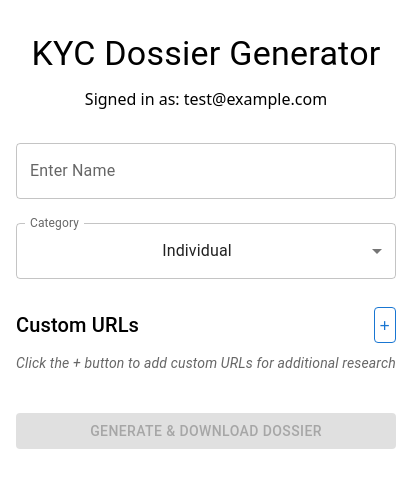
App Integration › can add and remove custom URLs
Add a URL
Step 1. Click the button "+" → (385, 325), box [374,307,396,343]
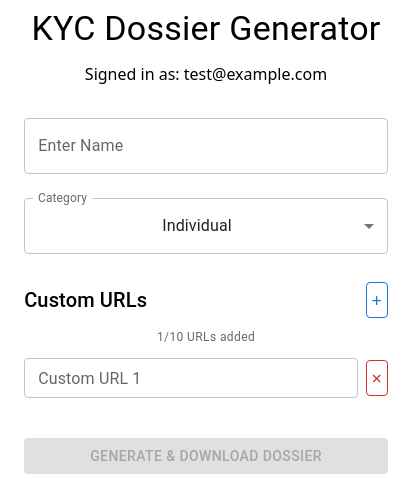
Now the field labelled "Custom URL 1" is shown, box [24,358,358,398]
Remove the URL
Step 2. Click the button "×" → (377, 378), box [366,360,388,396]
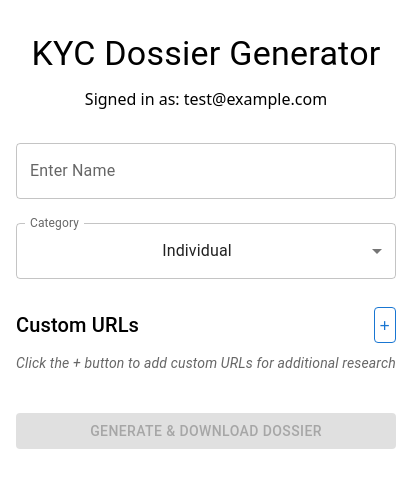
Now the label labelled "Custom URL 1" is gone
